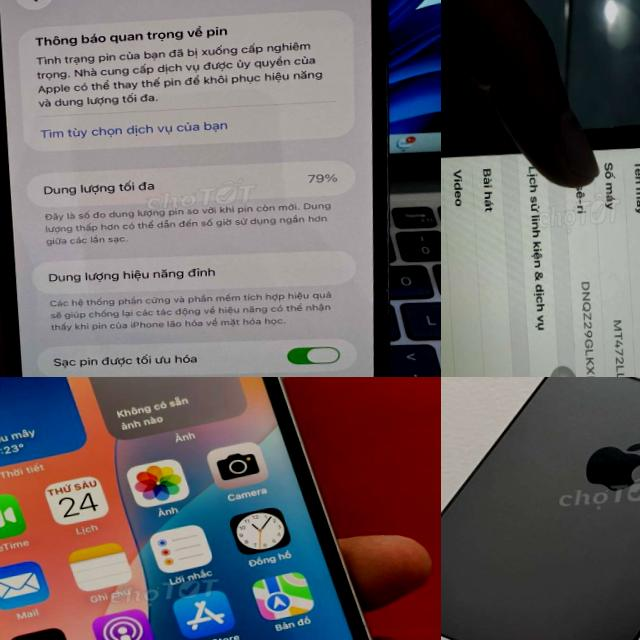gen_12_13: (0, 377, 434, 640)
gen_14: (0, 0, 418, 377), (441, 377, 640, 640)
gen_x_xs: (441, 108, 640, 377)
